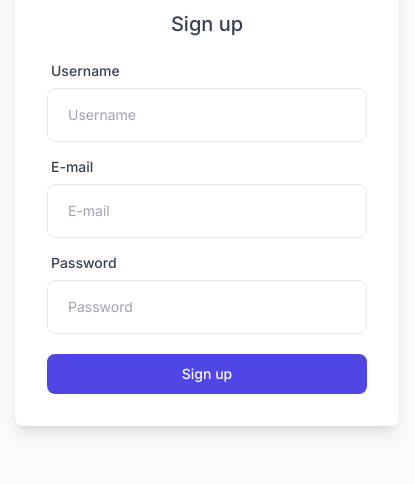
SignUpForm › shows an error message when the registration fails
Type "testuser" into the field labelled "Username" at (207, 115), box x1=47 y1=88 x2=367 y2=142
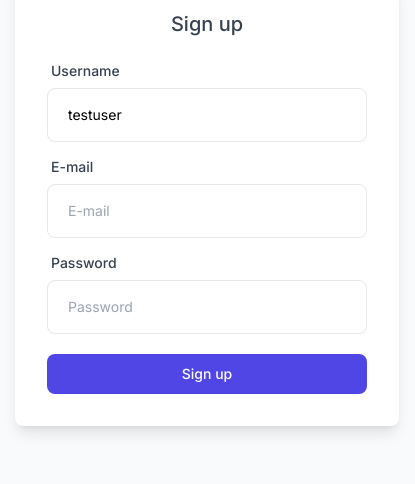
Type "test@example.com" into the field labelled "E-mail" at (207, 211), box x1=47 y1=184 x2=367 y2=238
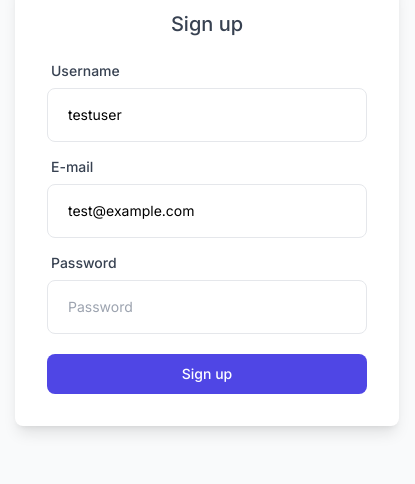
Type "password" into the password field labelled "Password" at (207, 307), box x1=47 y1=280 x2=367 y2=334
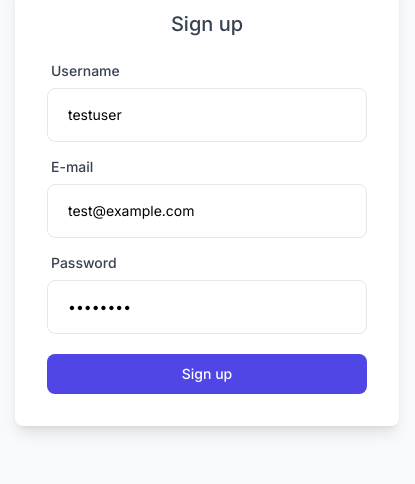
Click the button "Sign up" at (207, 374), box x1=47 y1=354 x2=367 y2=394
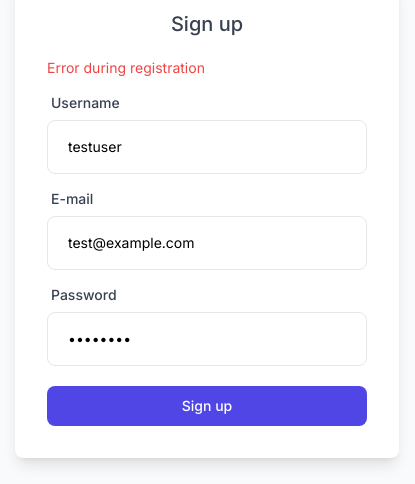
Expected: the text "Error during registration" is shown, x1=47 y1=59 x2=205 y2=76
